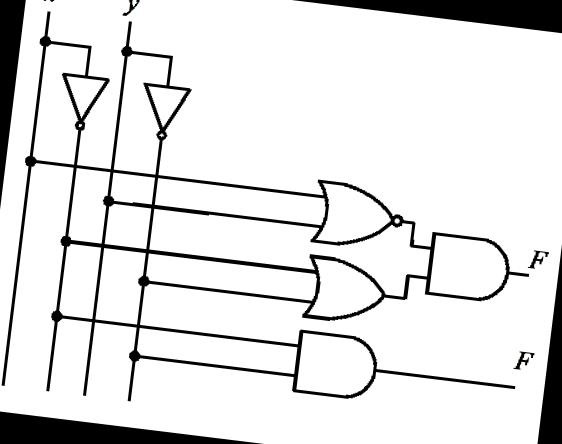and: (272, 318, 392, 415), (416, 221, 524, 316)
nor: (292, 166, 412, 259)
not: (126, 73, 207, 153), (44, 63, 116, 138)
or: (289, 242, 398, 335)
